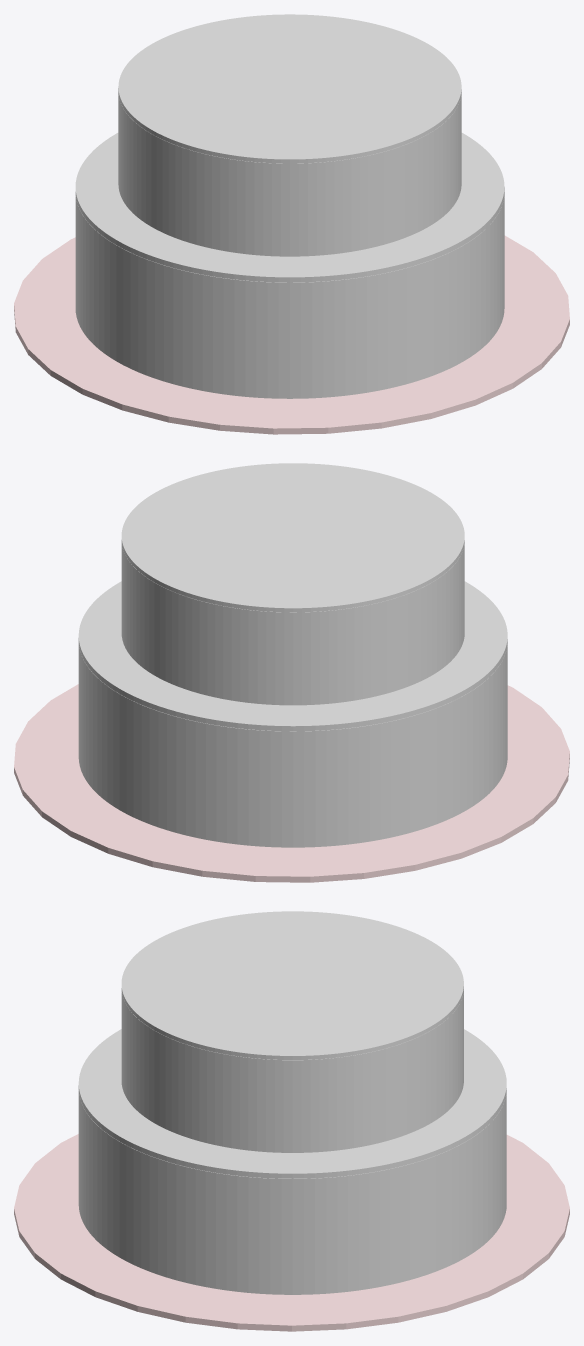
The model's file is CAKE_B_2L_RENAME.glb.
The picture shows the model from 3 angles, top to bottom: view 1: azimuth 30°, elevation 25°; view 2: azimuth 150°, elevation 25°; view 3: azimuth 270°, elevation 25°; orthographic projection.
Parts seen in each view (by area): view 1: BATTER.001, CREAM, BATTER, PLATE, CREAM.001; view 2: BATTER.001, CREAM, BATTER, PLATE, CREAM.001; view 3: BATTER.001, CREAM, PLATE, BATTER, CREAM.001.
Part boxes in pixels (x1,y1,x2,y2): BATTER.001: (75,193,504,398); CREAM: (118,14,461,163); BATTER: (118,92,461,256); PLATE: (14,235,569,434); CREAM.001: (75,133,504,282); BATTER.001: (78,643,507,847); CREAM: (121,463,464,612); BATTER: (121,544,464,705); PLATE: (14,684,569,882); CREAM.001: (78,581,507,731); BATTER.001: (78,1090,506,1294); CREAM: (121,911,463,1059); PLATE: (14,1134,569,1331); BATTER: (121,990,463,1152); CREAM.001: (78,1029,506,1178).
Size of the model in its own units: 1.97 by 0.9 by 1.97.
